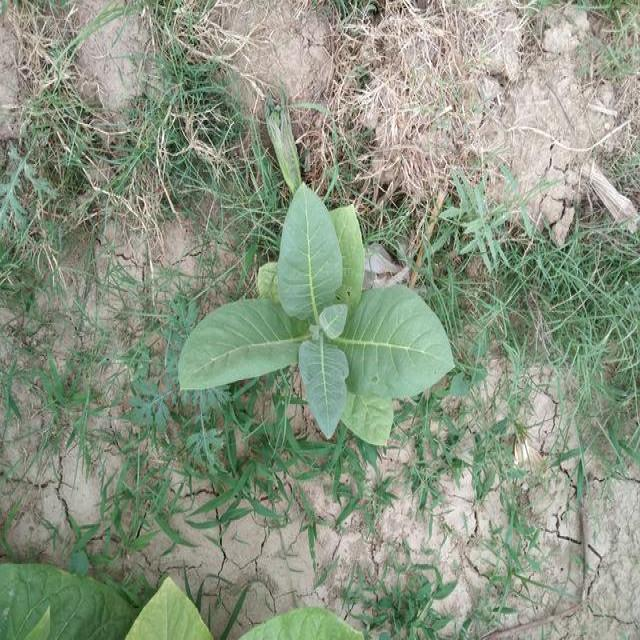crop: (178, 177, 462, 463)
